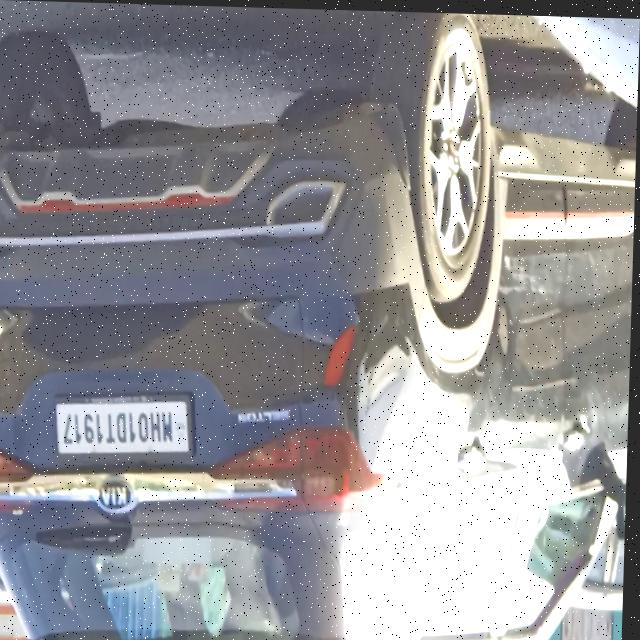plate: (56, 390, 198, 459)
